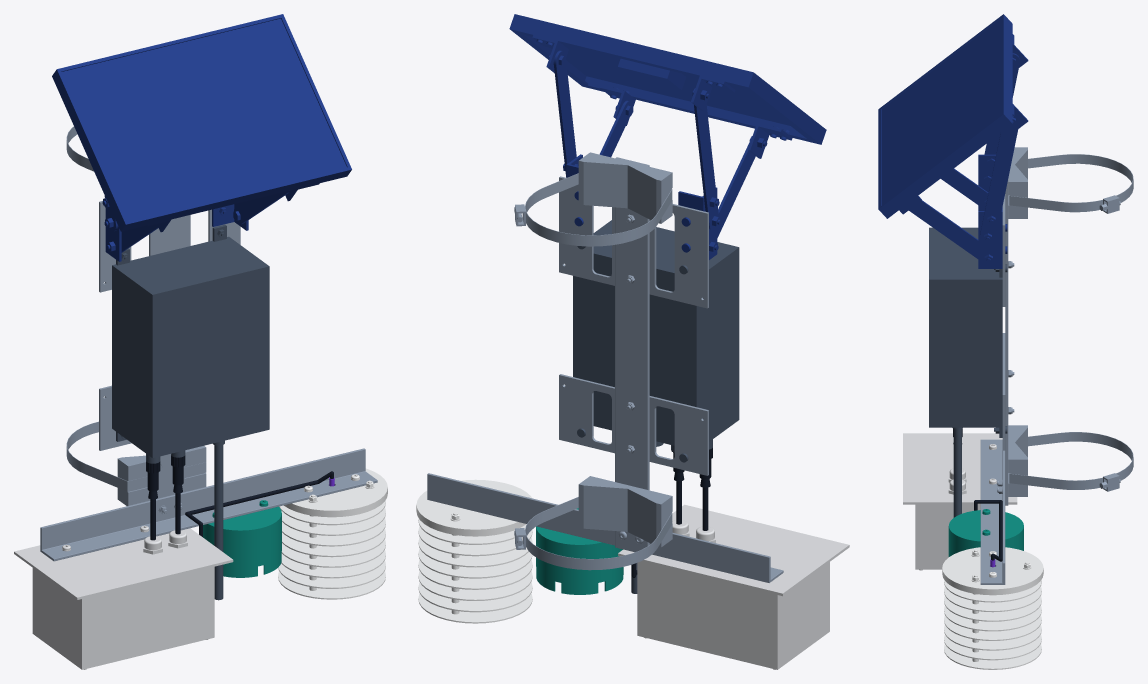
3 views of the same model, side by side, from view 1: azimuth 30°, elevation 25°; view 2: azimuth 150°, elevation 25°; view 3: azimuth 270°, elevation 25° (orthographic). The views are drawn at different scales.
Parts seen in each view (by area): view 1: FieldNode 6 W panel hood, FieldNode core (enclosure, cell, radio), Sensor pod: shell, sensor floor, mesh, Band clamps, saddles, rail, adapter plates and cross arm, Multi-plate radiation shield, Diffusion tube hood and clips, Sensor cables, M12, and probe lead; view 2: Band clamps, saddles, rail, adapter plates and cross arm, Sensor pod: shell, sensor floor, mesh, FieldNode 6 W panel hood, FieldNode core (enclosure, cell, radio), Multi-plate radiation shield, Diffusion tube hood and clips, Sensor cables, M12, and probe lead; view 3: FieldNode 6 W panel hood, FieldNode core (enclosure, cell, radio), Band clamps, saddles, rail, adapter plates and cross arm, Multi-plate radiation shield, Sensor pod: shell, sensor floor, mesh, Diffusion tube hood and clips, Sensor cables, M12, and probe lead.
Part boxes in pixels (x1=…): FieldNode 6 W panel hood: x1=52, y1=14, x2=351, y2=261; FieldNode core (enclosure, cell, radio): x1=112, y1=224, x2=269, y2=600; Sensor pod: shell, sensor floor, mesh: x1=14, y1=525, x2=233, y2=669; Band clamps, saddles, rail, adapter plates and cross arm: x1=40, y1=126, x2=377, y2=561; Multi-plate radiation shield: x1=278, y1=468, x2=387, y2=599; Diffusion tube hood and clips: x1=203, y1=500, x2=281, y2=577; Sensor cables, M12, and probe lead: x1=146, y1=455, x2=333, y2=540; Band clamps, saddles, rail, adapter plates and cross arm: x1=427, y1=152, x2=783, y2=582; Sensor pod: shell, sensor floor, mesh: x1=618, y1=504, x2=849, y2=669; FieldNode 6 W panel hood: x1=509, y1=14, x2=826, y2=259; FieldNode core (enclosure, cell, radio): x1=573, y1=220, x2=739, y2=593; Multi-plate radiation shield: x1=416, y1=479, x2=532, y2=623; Diffusion tube hood and clips: x1=536, y1=508, x2=623, y2=594; Sensor cables, M12, and probe lead: x1=631, y1=448, x2=712, y2=577; FieldNode 6 W panel hood: x1=878, y1=14, x2=1028, y2=268; FieldNode core (enclosure, cell, radio): x1=929, y1=227, x2=1007, y2=517; Band clamps, saddles, rail, adapter plates and cross arm: x1=980, y1=147, x2=1133, y2=584; Multi-plate radiation shield: x1=942, y1=547, x2=1043, y2=669; Sensor pod: shell, sensor floor, mesh: x1=903, y1=433, x2=1017, y2=570; Diffusion tube hood and clips: x1=948, y1=509, x2=1023, y2=556; Sensor cables, M12, and probe lead: x1=953, y1=428, x2=1002, y2=561.
Bounding box in the file's own units: 0.452 × 0.7045 × 0.3121.
